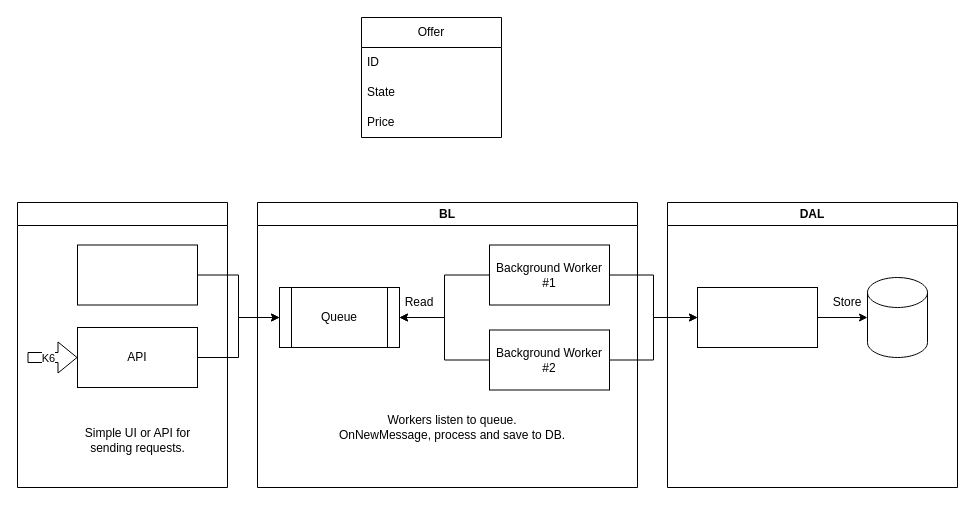
Some shapes in this 975 by 505 pixel diagram are drawn without their labels. The box of each missing label's shape, as (x1, y1, x2, y2) in pixels:
PORTAL: (76, 244, 198, 305)
Repo: (696, 286, 818, 348)
SQL: (866, 276, 928, 358)
WEB: (16, 202, 228, 488)
